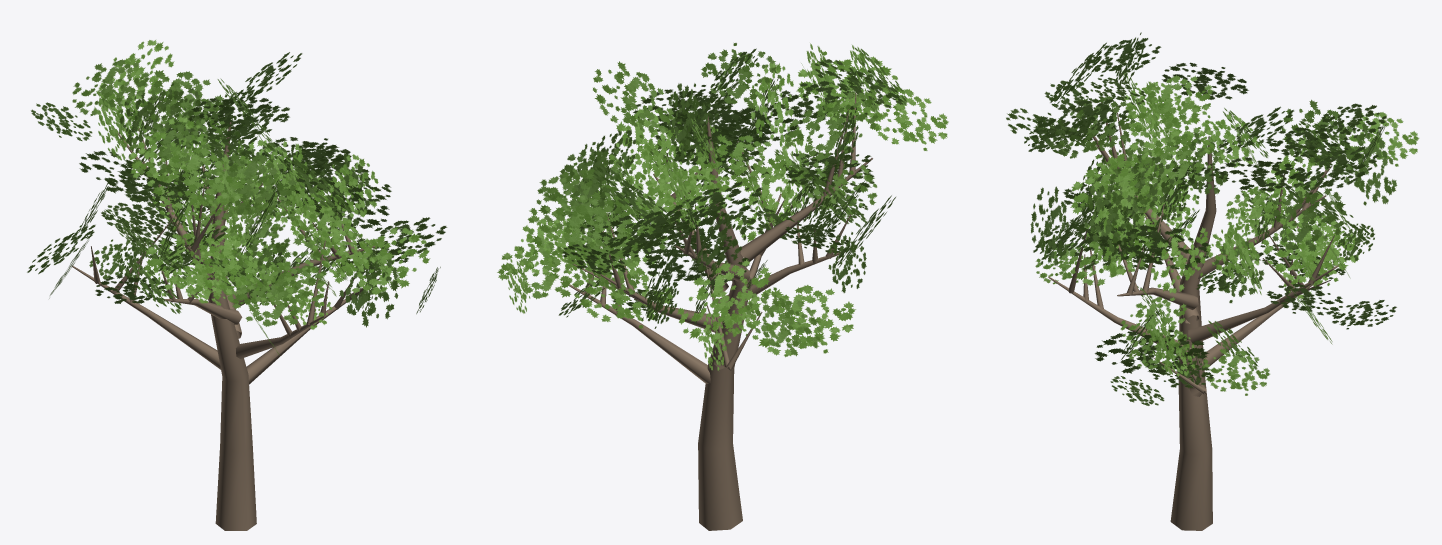
The model's file is maple-43-balanced.glb.
The picture shows the model from 3 angles, left to right: view 1: azimuth 30°, elevation 25°; view 2: azimuth 150°, elevation 25°; view 3: azimuth 270°, elevation 25°; orthographic projection. The views are drawn at different scales.
Visible parts, largest first — view 1: LeafCards, Wood; view 2: LeafCards, Wood; view 3: LeafCards, Wood.
Part boxes in pixels (<box>): LeafCards: <box>27,40,447,355</box>; Wood: <box>71,122,379,530</box>; LeafCards: <box>497,43,948,371</box>; Wood: <box>562,93,872,530</box>; LeafCards: <box>1006,32,1419,405</box>; Wood: <box>1048,102,1338,530</box>.
Bounding box in the file's own units: 12.66 × 15.06 × 13.17.
Materials: 2 (1 with a texture image).
